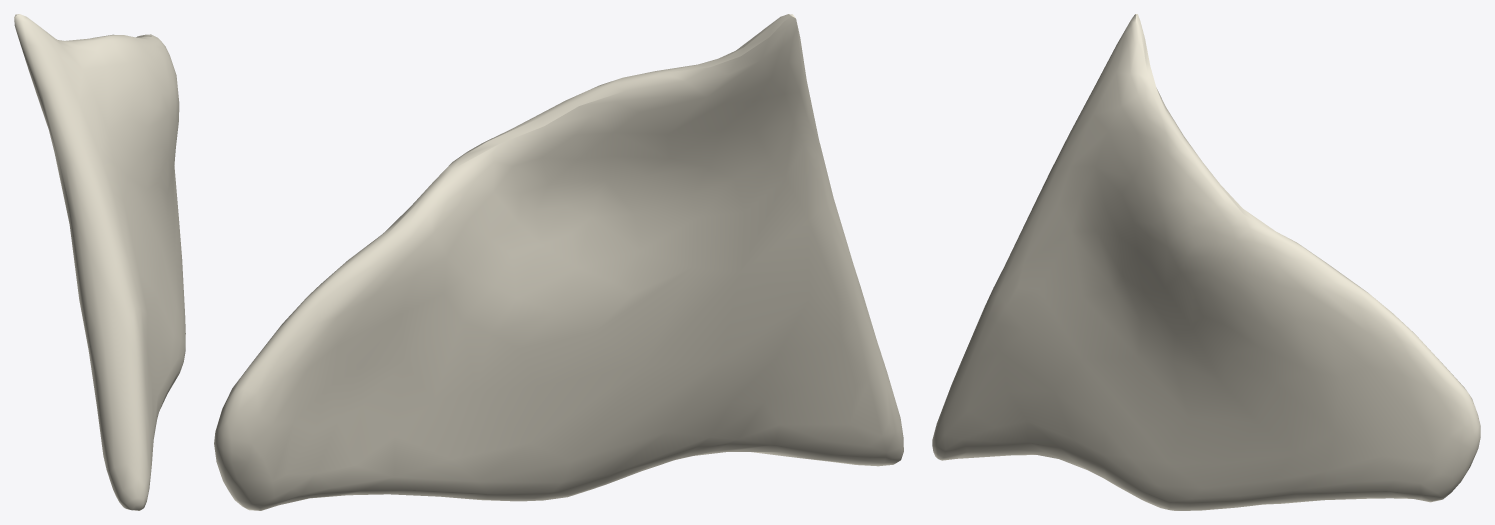
The model's file is fma59513_mm2068.glb.
The picture shows the model from 3 angles, left to right: view 1: azimuth 30°, elevation 25°; view 2: azimuth 150°, elevation 25°; view 3: azimuth 270°, elevation 25°; orthographic projection. The views are drawn at different scales.
Visible parts, largest first — view 1: FMA59513_MM2068; view 2: FMA59513_MM2068; view 3: FMA59513_MM2068.
Boxes of the visible parts, bbox=[...] form: FMA59513_MM2068: bbox=[14, 14, 185, 510]; FMA59513_MM2068: bbox=[214, 14, 903, 510]; FMA59513_MM2068: bbox=[932, 14, 1480, 510].
Size of the model in its own units: 0.0112 by 0.0157 by 0.018.
